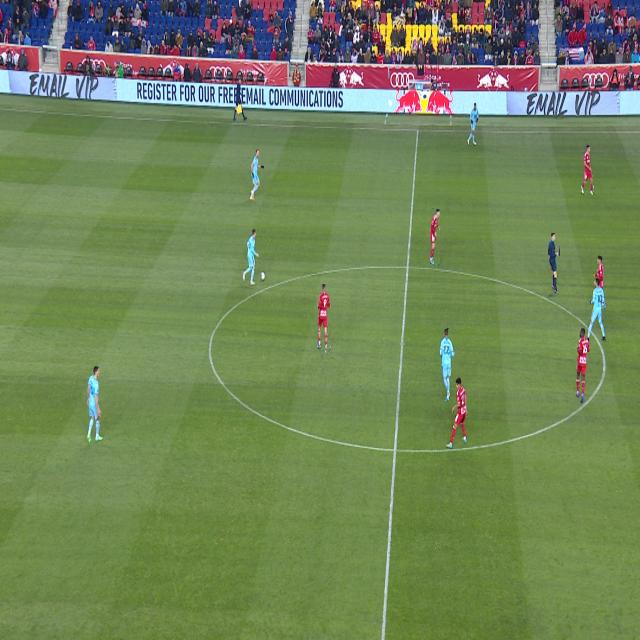football: (261, 272, 265, 280)
player: (446, 378, 467, 448), (586, 279, 606, 343), (87, 367, 103, 444), (576, 329, 590, 402), (440, 329, 454, 400), (243, 229, 259, 284), (318, 284, 330, 354), (250, 150, 263, 200), (430, 209, 440, 264), (582, 145, 593, 194), (468, 104, 479, 144), (594, 256, 603, 288), (602, 303, 605, 307)
referee: (549, 234, 559, 294)
